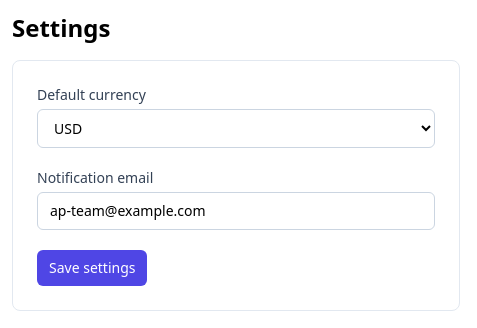
Test case: SettingsPage › saves changed settings
This screenshot has width=477, height=328.
Step 1. Replace the text in the field labelled "Notification email" with "finance@example.com" → [236, 211], box left=37, top=192, right=435, bottom=230
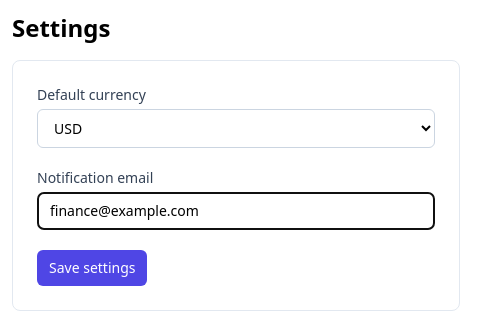
Step 2. Select "EUR" in the dropdown labelled "Default currency" → [236, 128], box left=37, top=109, right=435, bottom=148
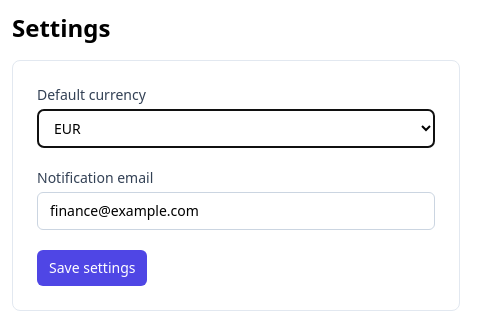
Step 3. Click the button "Save settings" → [92, 268], box left=37, top=250, right=148, bottom=286
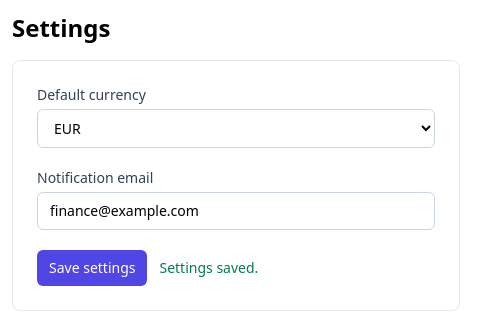
Expected: the text "Settings saved." is shown, left=160, top=258, right=258, bottom=278
